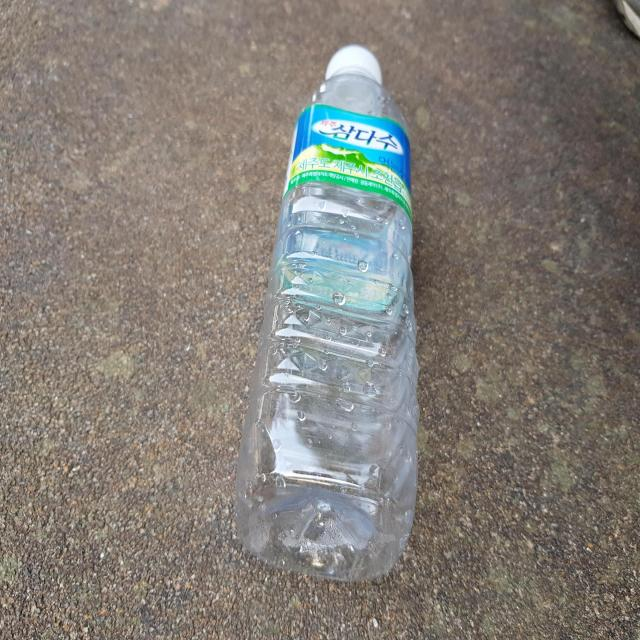plastic: (236, 44, 419, 582)
